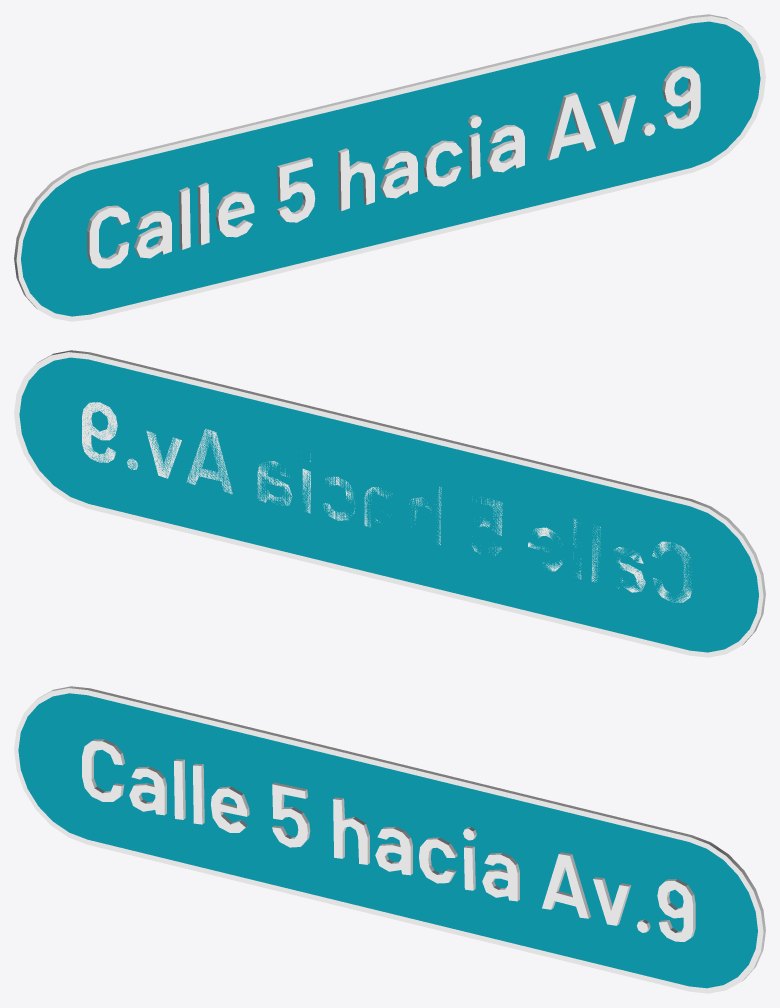
File: calle5haciaav9OBJ.obj
3 renders of one model, top to bottom at view 1: azimuth 30°, elevation 25°; view 2: azimuth 150°, elevation 25°; view 3: azimuth 330°, elevation 25°, orthographic.
Parts seen in each view (by area): view 1: Entorno_77_Entorno_1__24412_, Texto_de_modelo_Texto_de_modelo_10__24400_, Entorno_78_Entorno_1__24424_; view 2: Entorno_77_Entorno_1__24412_, Entorno_78_Entorno_1__24424_, Texto_de_modelo_Texto_de_modelo_10__24400_; view 3: Entorno_77_Entorno_1__24412_, Texto_de_modelo_Texto_de_modelo_10__24400_, Entorno_78_Entorno_1__24424_.
Boxes of the visible parts, x1,y1,x2,y2 form: Entorno_77_Entorno_1__24412_: [21, 21, 760, 316]; Texto_de_modelo_Texto_de_modelo_10__24400_: [87, 66, 700, 268]; Entorno_78_Entorno_1__24424_: [14, 14, 765, 321]; Entorno_77_Entorno_1__24412_: [19, 357, 758, 652]; Entorno_78_Entorno_1__24424_: [14, 350, 765, 657]; Texto_de_modelo_Texto_de_modelo_10__24400_: [82, 402, 691, 602]; Entorno_77_Entorno_1__24412_: [18, 693, 757, 988]; Texto_de_modelo_Texto_de_modelo_10__24400_: [82, 739, 695, 941]; Entorno_78_Entorno_1__24424_: [14, 686, 765, 993].
Bounding box in the file's own units: 52.69 × 10.39 × 0.6.
